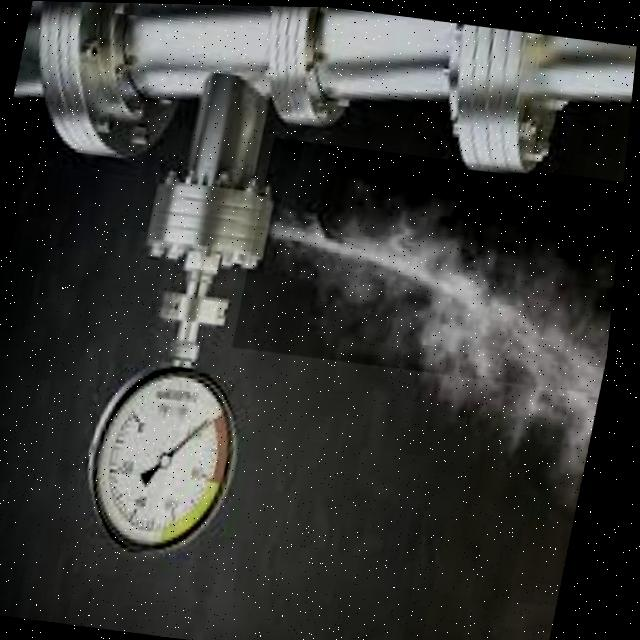corrosion: (231, 137, 624, 394)
